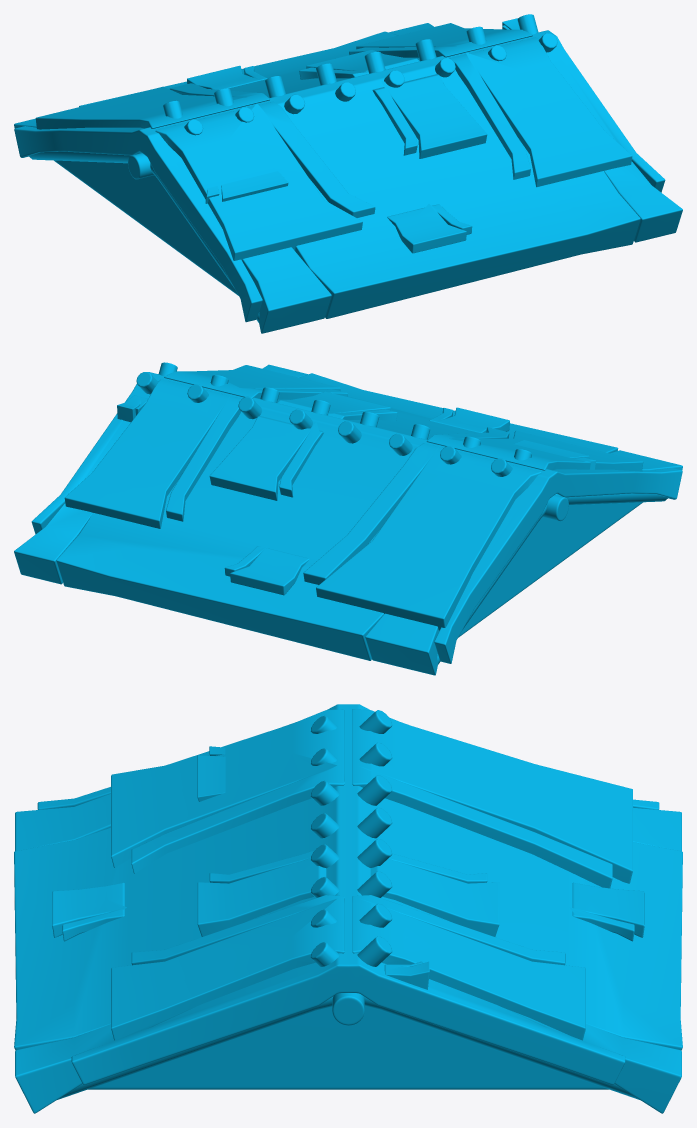
Rendered from SM_Clay_Roof_02.fbx.
The picture shows the model from 3 angles, top to bottom: view 1: azimuth 30°, elevation 25°; view 2: azimuth 150°, elevation 25°; view 3: azimuth 270°, elevation 25°; orthographic projection. The views are drawn at different scales.
Visible parts, largest first — view 1: SM_Clay_Roof_02; view 2: SM_Clay_Roof_02; view 3: SM_Clay_Roof_02.
Boxes of the visible parts, left/top/right/bottom form: SM_Clay_Roof_02: left=14, top=14, right=682, bottom=333; SM_Clay_Roof_02: left=14, top=362, right=682, bottom=675; SM_Clay_Roof_02: left=14, top=704, right=682, bottom=1113.
Size of the model in its own units: 5.24 by 1.5 by 5.44.
